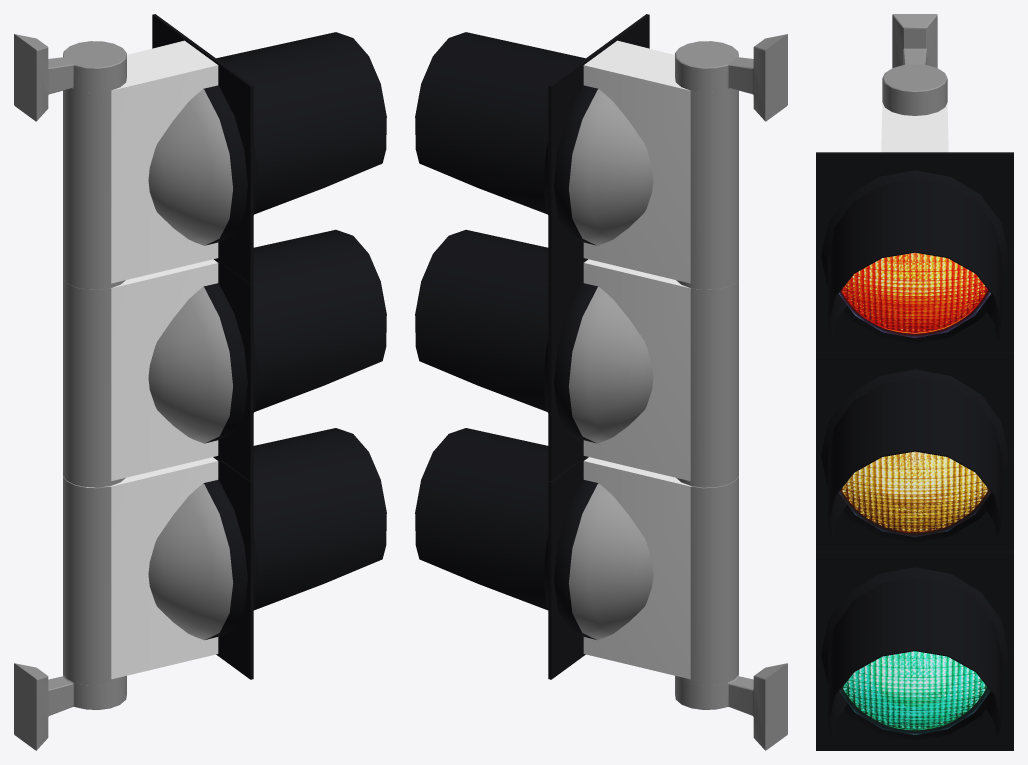
Rendered from Ampel_Standard_Mast.glb.
3 renders of one model, left to right at view 1: azimuth 30°, elevation 25°; view 2: azimuth 150°, elevation 25°; view 3: azimuth 270°, elevation 25°, orthographic.
Visible parts, largest first — view 1: Cube.004, Cube.005, Cube.003, Sonnenblende.002, Sonnenblende, Sonnenblende.001, BezierCurve.002, BezierCurve.001, BezierCurve.003, Masthalterung, Blende.002, Masthalterung.001 (+2 smaller); view 2: Cube.004, Cube.005, Cube.003, Sonnenblende.002, Sonnenblende, Sonnenblende.001, BezierCurve.002, BezierCurve.001, BezierCurve.003, Masthalterung, Blende.002, Masthalterung.001 (+2 smaller); view 3: Blende.002, Blende.001, Blende, Sonnenblende, Sonnenblende.002, Sonnenblende.001, BezierCurve.001, BezierCurve.003, BezierCurve.002, Masthalterung, Cube.004.
Boxes of the visible parts, x1=… form: Cube.004: x1=63, y1=40, x2=218, y2=289; Cube.005: x1=63, y1=457, x2=218, y2=685; Cube.003: x1=63, y1=259, x2=218, y2=487; Sonnenblende.002: x1=216, y1=32, x2=386, y2=214; Sonnenblende: x1=253, y1=428, x2=386, y2=610; Sonnenblende.001: x1=253, y1=229, x2=386, y2=411; BezierCurve.002: x1=148, y1=283, x2=258, y2=443; BezierCurve.001: x1=148, y1=480, x2=258, y2=640; BezierCurve.003: x1=148, y1=85, x2=258, y2=245; Masthalterung: x1=14, y1=34, x2=126, y2=121; Blende.002: x1=152, y1=14, x2=253, y2=283; Masthalterung.001: x1=14, y1=663, x2=126, y2=750; Cube.004: x1=583, y1=40, x2=738, y2=289; Cube.005: x1=583, y1=457, x2=738, y2=685; Cube.003: x1=583, y1=259, x2=738, y2=487; Sonnenblende.002: x1=415, y1=32, x2=585, y2=214; Sonnenblende: x1=415, y1=428, x2=548, y2=610; Sonnenblende.001: x1=415, y1=229, x2=548, y2=411; BezierCurve.002: x1=543, y1=283, x2=653, y2=443; BezierCurve.001: x1=543, y1=480, x2=653, y2=640; BezierCurve.003: x1=543, y1=85, x2=653, y2=245; Masthalterung: x1=675, y1=34, x2=787, y2=121; Blende.002: x1=548, y1=14, x2=649, y2=283; Masthalterung.001: x1=675, y1=663, x2=787, y2=750; Blende.002: x1=816, y1=152, x2=1013, y2=352; Blende.001: x1=816, y1=352, x2=1013, y2=551; Blende: x1=816, y1=551, x2=1013, y2=750; Sonnenblende: x1=828, y1=577, x2=1001, y2=736; Sonnenblende.002: x1=828, y1=179, x2=1001, y2=338; Sonnenblende.001: x1=828, y1=378, x2=1001, y2=537; BezierCurve.001: x1=821, y1=567, x2=1008, y2=740; BezierCurve.003: x1=821, y1=170, x2=1008, y2=343; BezierCurve.002: x1=821, y1=369, x2=1008, y2=542; Masthalterung: x1=882, y1=14, x2=947, y2=115; Cube.004: x1=881, y1=102, x2=948, y2=152.
Bounding box in the file's own units: 0.4823 × 0.9853 × 0.2502.
Materials: 6 (5 with a texture image).
